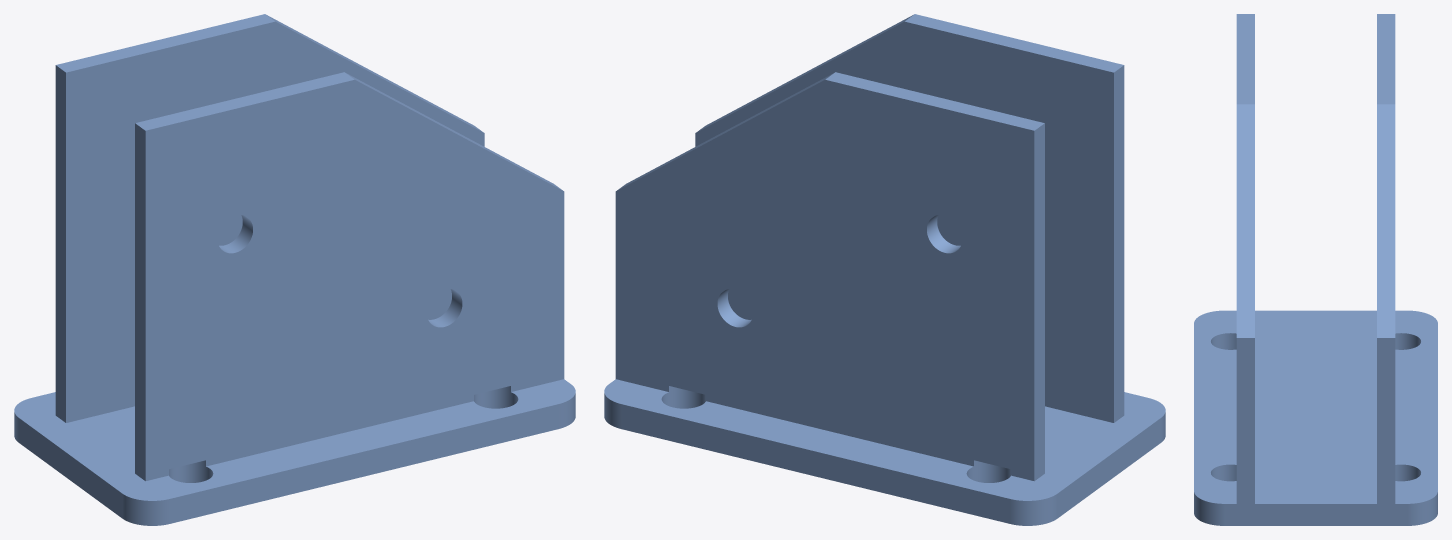
The model's file is step_18.glb.
3 renders of one model, left to right at view 1: azimuth 30°, elevation 25°; view 2: azimuth 150°, elevation 25°; view 3: azimuth 270°, elevation 25°, orthographic. The views are drawn at different scales.
Parts seen in each view (by area): view 1: part__base; view 2: part__base; view 3: part__base.
Boxes of the visible parts, x1,y1,x2,y2 form: part__base: [14, 14, 575, 525]; part__base: [604, 14, 1165, 525]; part__base: [1194, 14, 1437, 525].
Size of the model in its own units: 75 by 60 by 40.
